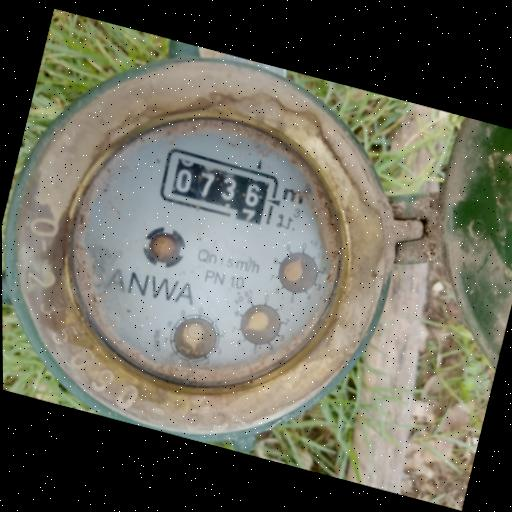0: (170, 158, 201, 199)
3: (211, 168, 246, 211)
6: (235, 174, 271, 225)
7: (190, 162, 222, 205)
border_water_meter_number: (155, 143, 283, 228)
